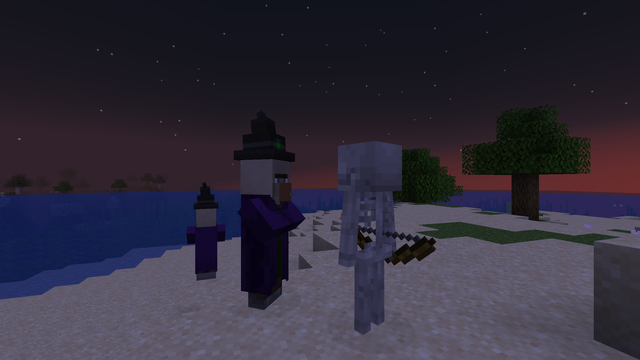sorcieres: (241, 152, 292, 314), (192, 203, 218, 283)
squelettes: (334, 141, 409, 347)
